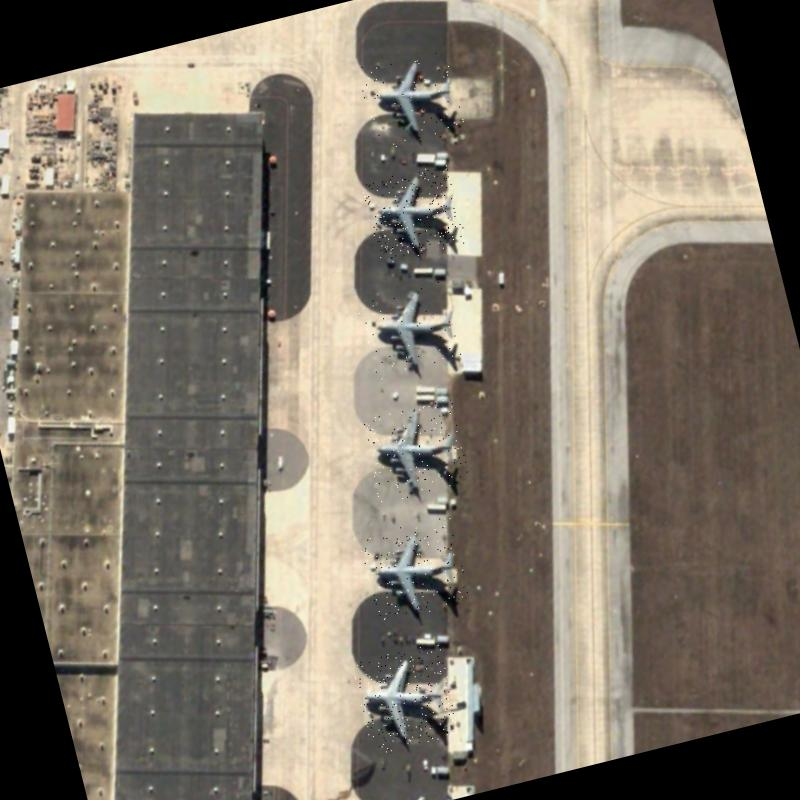A3: (350, 641, 462, 756), (357, 514, 471, 624), (358, 397, 472, 504), (356, 45, 466, 152), (354, 278, 465, 382), (360, 161, 468, 264)
